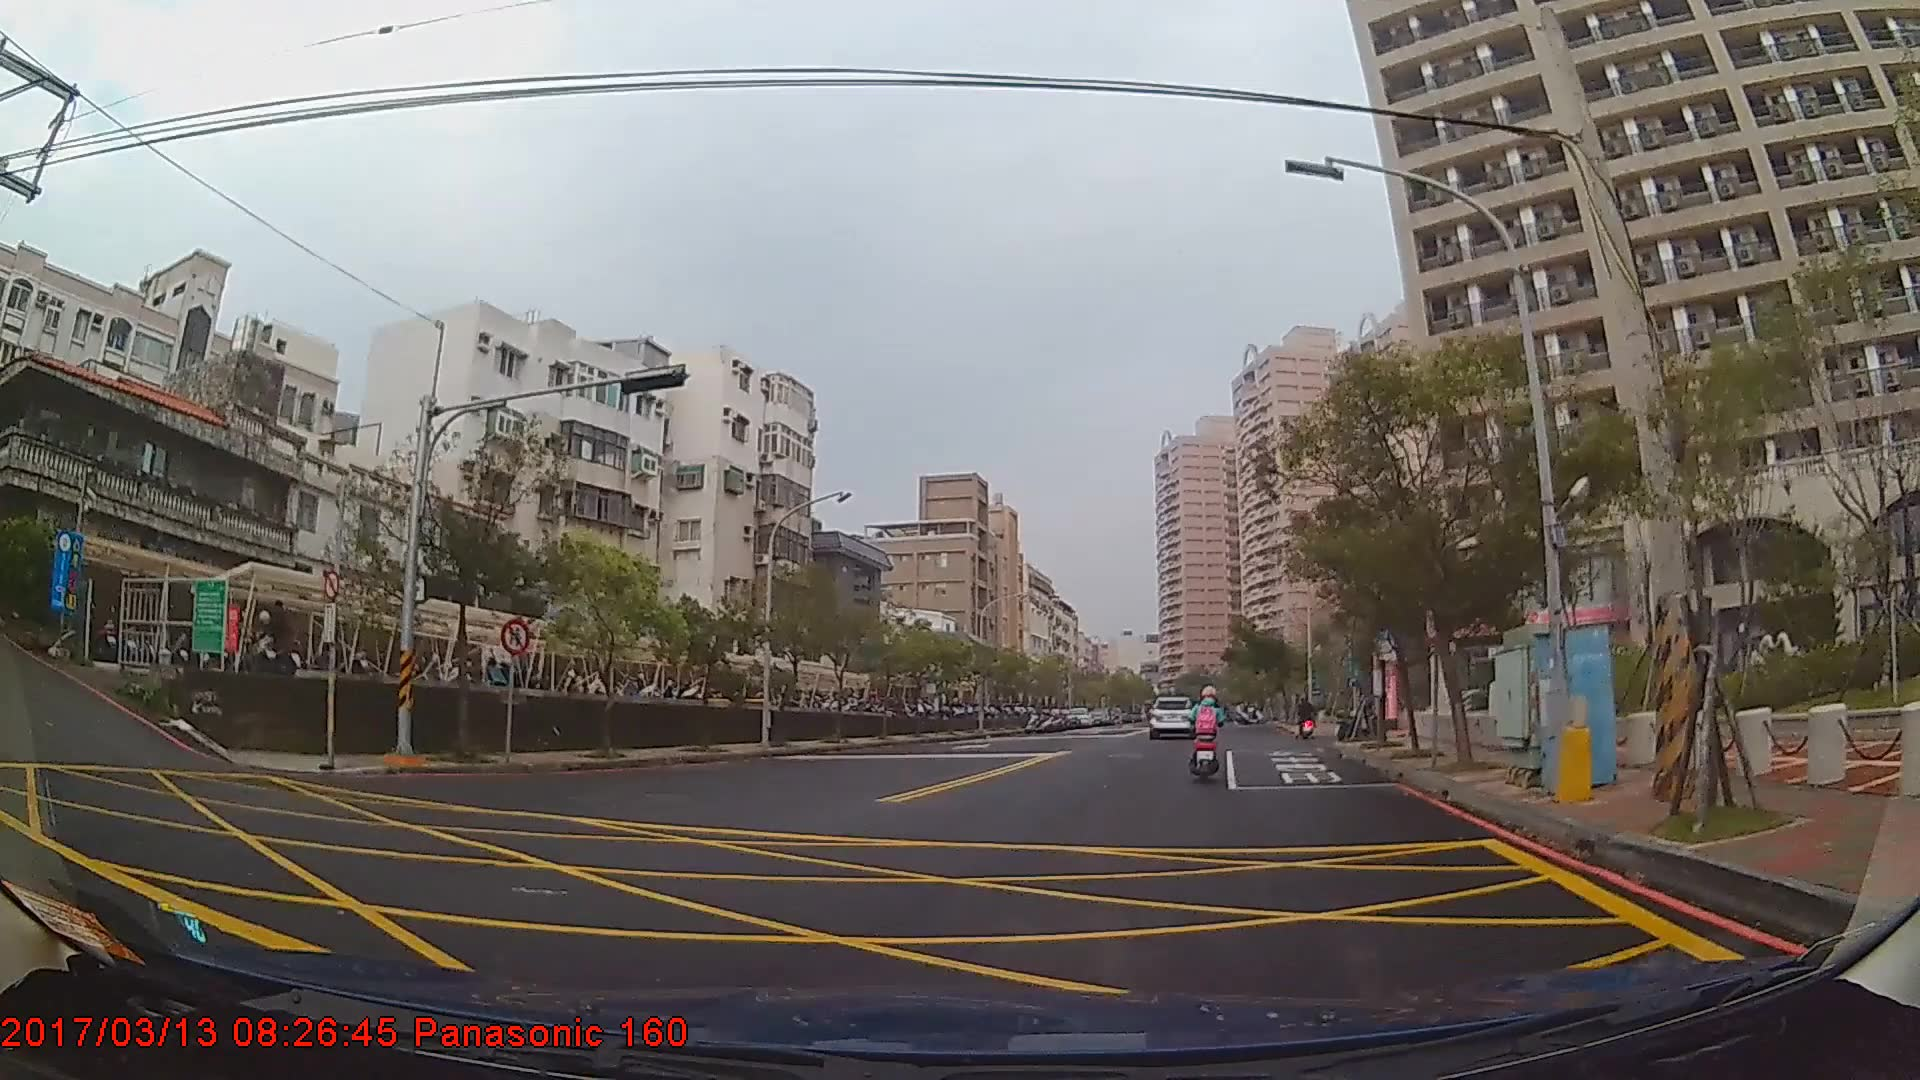rider: (1186, 685, 1228, 783)
vehicle: (1149, 693, 1194, 737)
